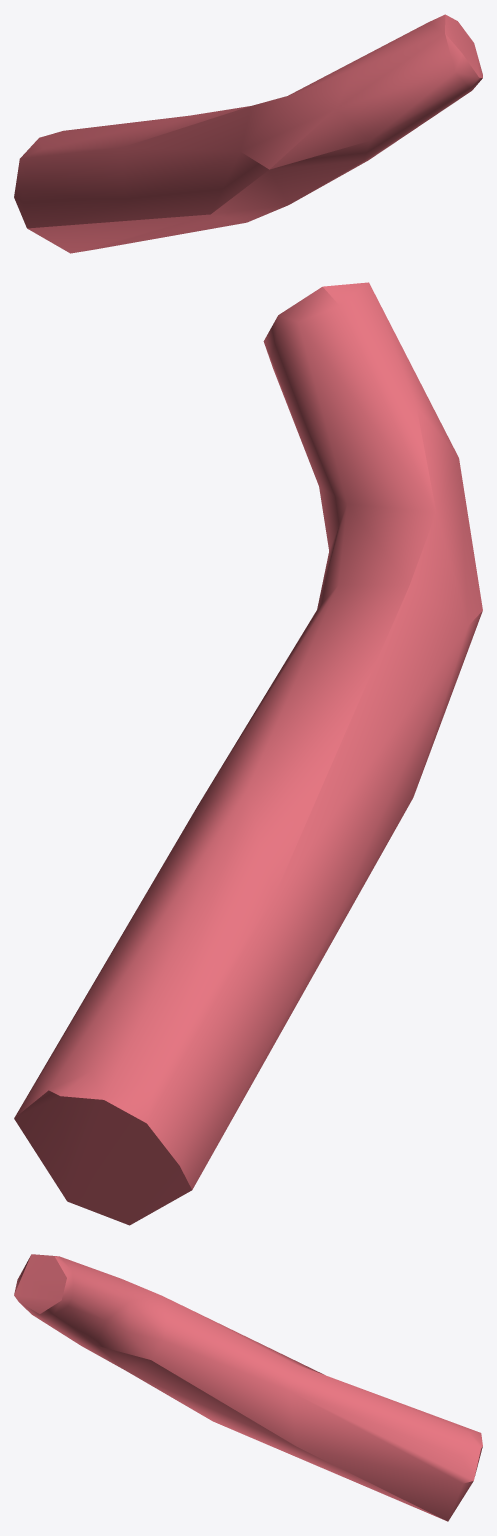
The model's file is fma68131_fj5979.glb.
The picture shows the model from 3 angles, top to bottom: view 1: azimuth 30°, elevation 25°; view 2: azimuth 150°, elevation 25°; view 3: azimuth 270°, elevation 25°; orthographic projection. The views are drawn at different scales.
Visible parts, largest first — view 1: FMA68131_FJ5979; view 2: FMA68131_FJ5979; view 3: FMA68131_FJ5979.
Part boxes in pixels (x1,y1,x2,y2): FMA68131_FJ5979: (14, 14, 482, 253); FMA68131_FJ5979: (14, 282, 482, 1225); FMA68131_FJ5979: (14, 1254, 482, 1521).
Bounding box in the file's own units: 0.00567 × 0.0104 × 0.0145.
